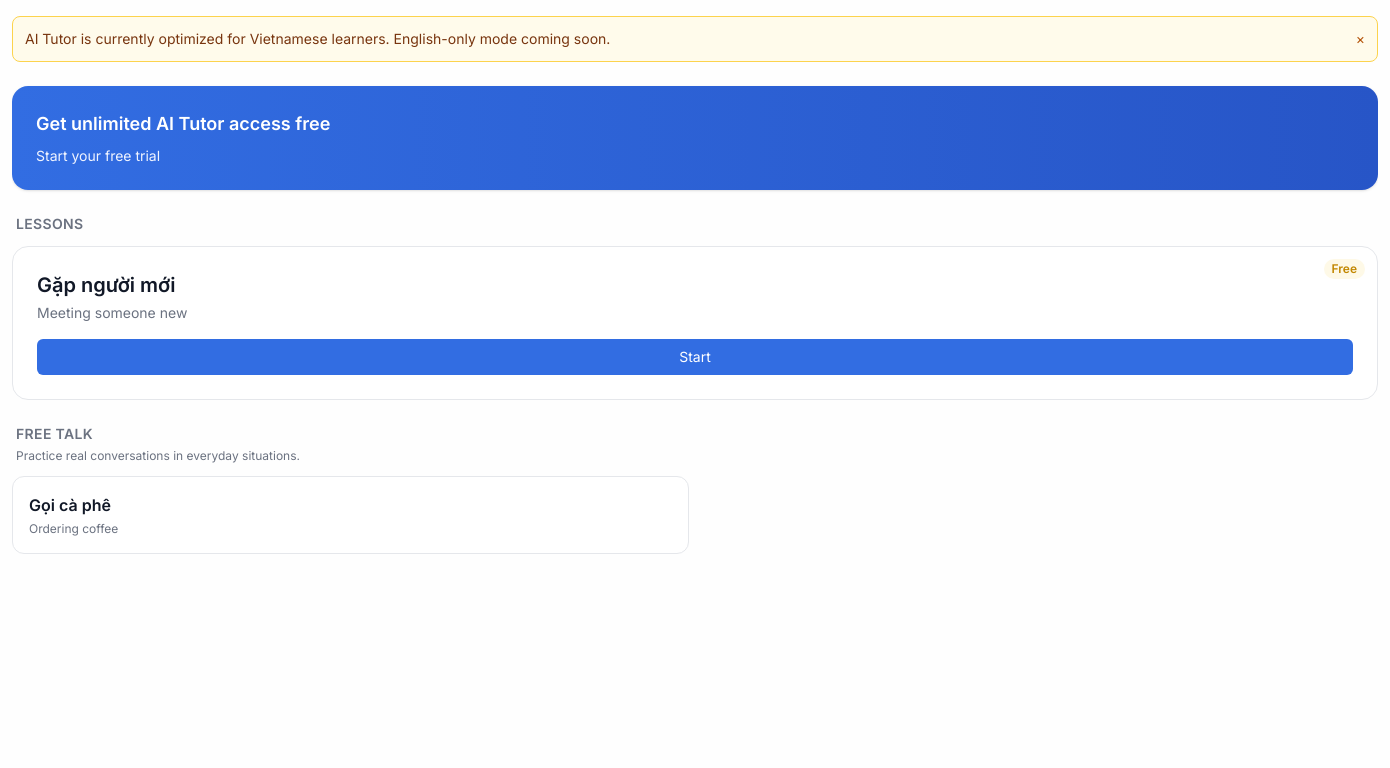
AiTutorHomePage › shows the VI banner for non-Vietnamese learners and hides it on dismiss
Expected: the heading "Gặp người mới" is shown, [37,273,176,297]
Expected: the text "optimized for Vietnamese learners" is shown, [25,30,610,47]
Step 1. Click the button named "dismiss" → [1360, 39], box [1356,29,1365,49]
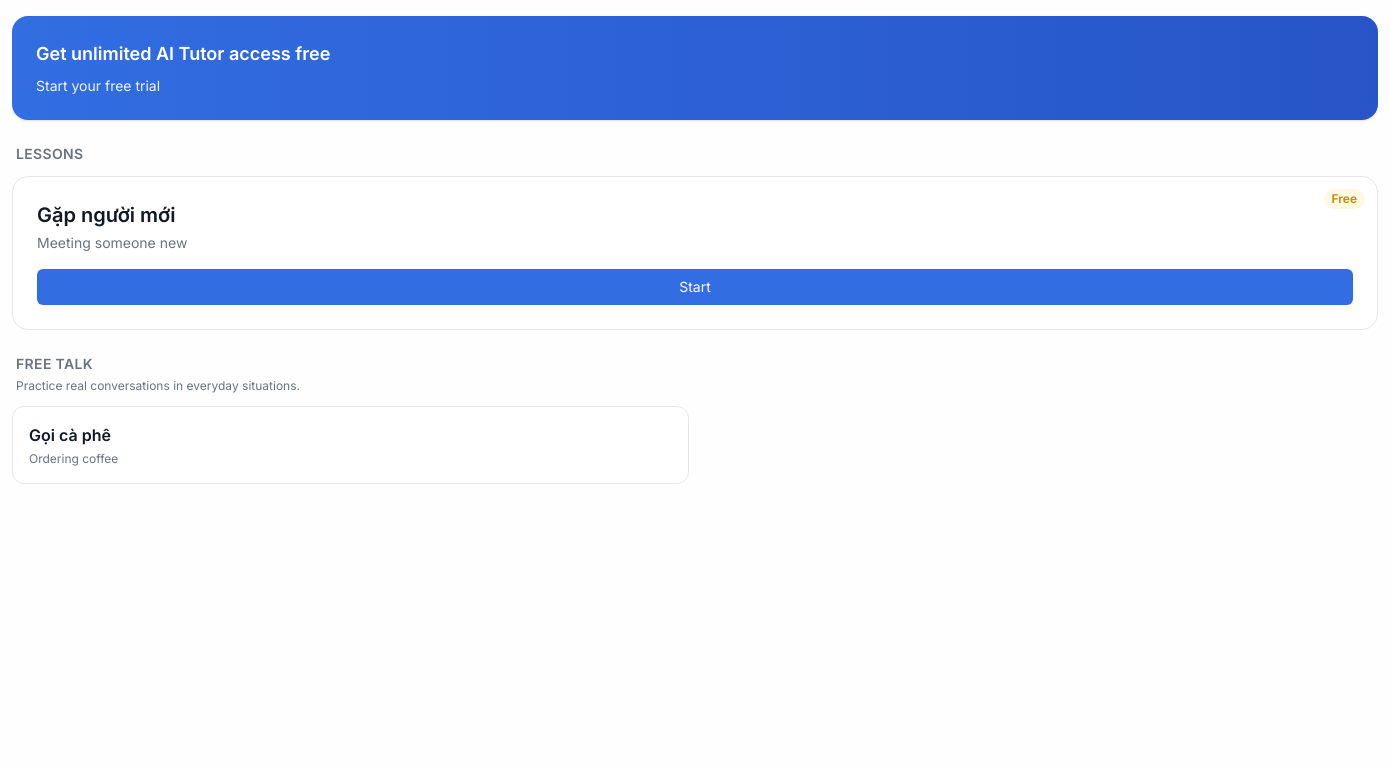
Result: the text "optimized for Vietnamese learners" is gone
